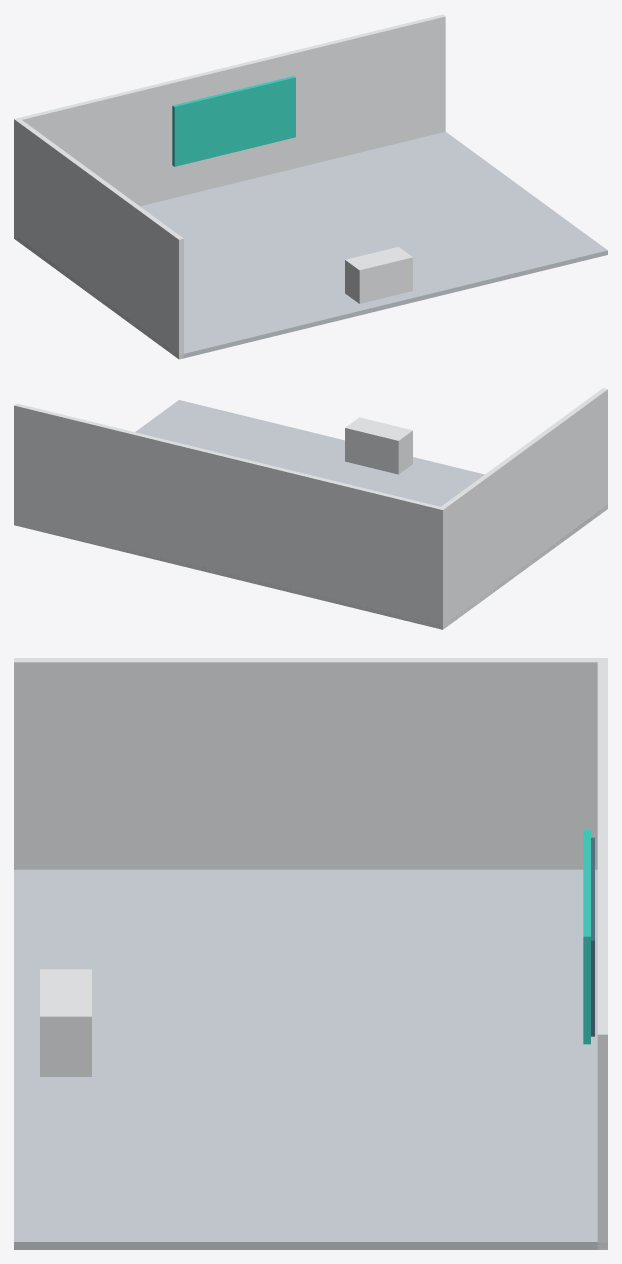
3 views of the same model, one above another, from view 1: azimuth 30°, elevation 25°; view 2: azimuth 150°, elevation 25°; view 3: azimuth 270°, elevation 25° (orthographic). The views are drawn at different scales.
Visible parts, largest first — view 1: Exhibition Booth Concept; view 2: Exhibition Booth Concept; view 3: Exhibition Booth Concept.
Part boxes in pixels (x1,y1,x2,y2): Exhibition Booth Concept: (14, 14, 607, 359); Exhibition Booth Concept: (14, 388, 607, 629); Exhibition Booth Concept: (14, 658, 607, 1249).
Bounding box in the file's own units: 12 × 3.2 × 8.
